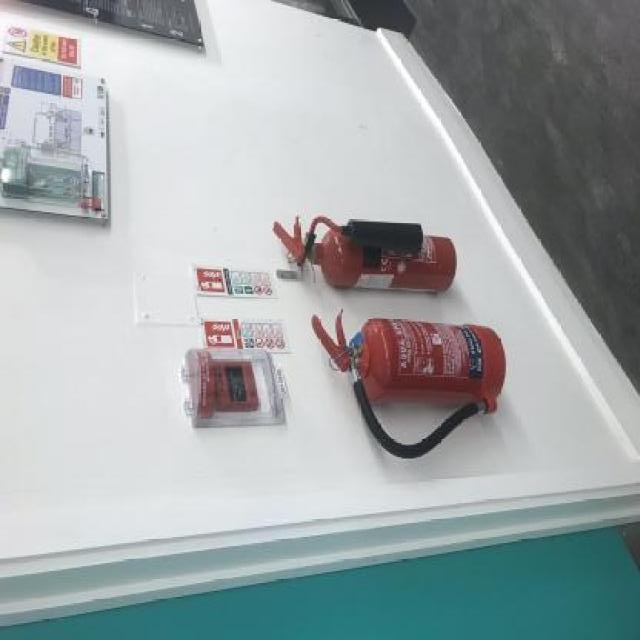fire extinguisher: (309, 310, 508, 462), (272, 212, 457, 294)
